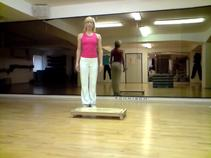hands_up: (72, 10, 106, 115)
stay: (72, 10, 106, 115)
